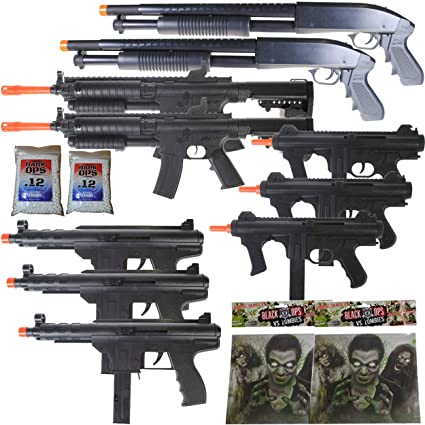Arma Falsa: (55, 31, 389, 118), (97, 3, 424, 88), (2, 102, 269, 190), (20, 312, 224, 425), (1, 64, 316, 115), (212, 206, 382, 298), (239, 168, 425, 243), (5, 263, 220, 319), (2, 217, 210, 268), (249, 122, 425, 181)
